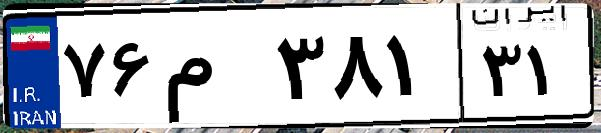1: (385, 28, 445, 110), (525, 38, 570, 115)
3: (270, 28, 330, 110), (475, 38, 525, 113)
6: (110, 28, 158, 98)
7: (57, 26, 110, 100)
8: (330, 28, 385, 110)
م: (158, 20, 270, 120)
